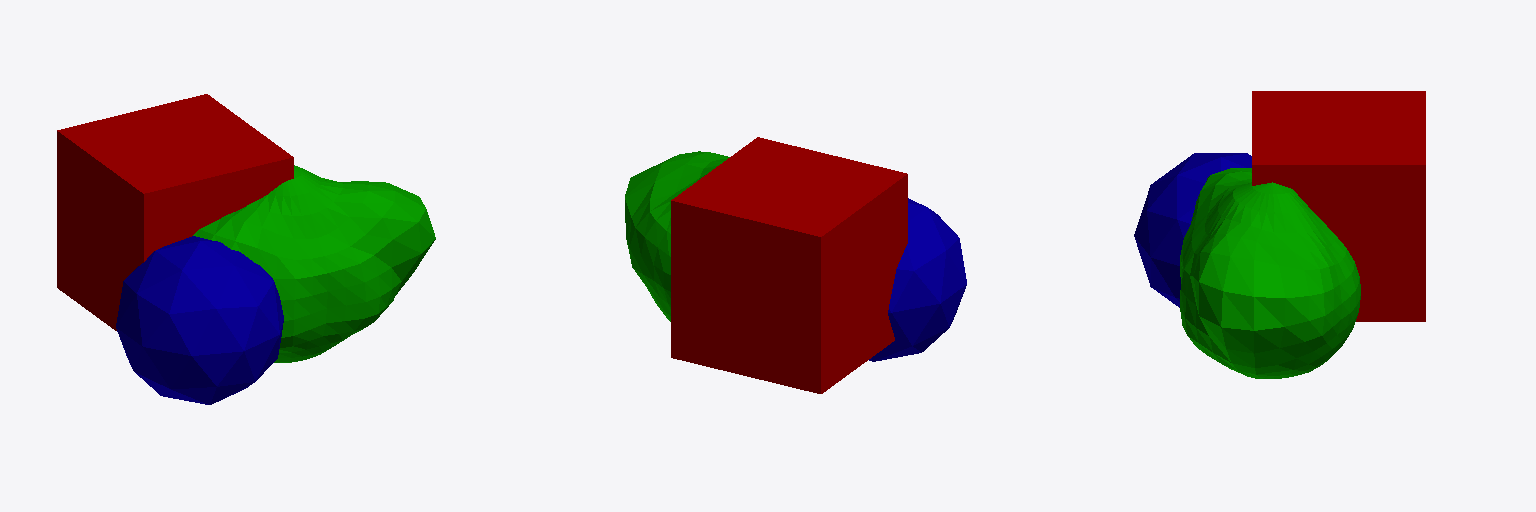
File: combined_model.obj
The picture shows the model from 3 angles: view 1: azimuth 30°, elevation 25°; view 2: azimuth 150°, elevation 25°; view 3: azimuth 270°, elevation 25°; orthographic projection.
Parts seen in each view (by area): view 1: Cube.001, Sphere, Icosphere; view 2: Cube.001, Icosphere, Sphere; view 3: Sphere, Cube.001, Icosphere.
Part boxes in pixels (x1,y1,x2,y2): Cube.001: (57,94,293,330); Sphere: (193,165,435,362); Icosphere: (116,236,283,404); Cube.001: (671,137,907,393); Icosphere: (869,198,966,361); Sphere: (625,151,729,321); Sphere: (1180,168,1360,378); Cube.001: (1252,91,1425,321); Icosphere: (1134,153,1251,307).
Size of the model in its own units: 4.16 by 2.62 by 3.36.